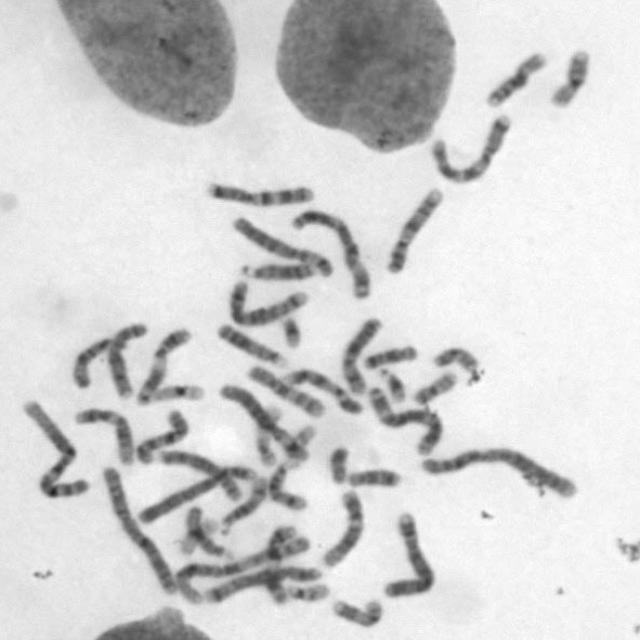A1: (173, 533, 313, 606), (17, 399, 92, 500)
A2: (98, 467, 178, 596), (418, 445, 579, 501)
A3: (289, 208, 375, 301), (367, 384, 445, 457)
B4: (136, 465, 260, 524), (382, 512, 438, 599)
B5: (202, 566, 325, 604), (226, 280, 312, 328)
C10: (246, 363, 328, 420), (134, 409, 190, 465)
C11: (135, 326, 192, 409), (262, 525, 300, 606)
C12: (318, 488, 366, 568), (74, 406, 135, 467)
C6: (218, 382, 310, 463), (230, 214, 334, 278)
C7: (429, 114, 513, 185), (205, 179, 316, 208)
C8: (157, 448, 244, 502), (107, 320, 151, 399)
C9: (384, 187, 448, 275), (279, 368, 365, 416)
D13: (216, 322, 290, 371), (238, 260, 316, 280)
D14: (219, 475, 267, 535), (267, 459, 312, 512)
D15: (182, 504, 234, 560), (70, 337, 112, 393)
E16: (482, 49, 549, 109), (550, 48, 592, 108)
E17: (253, 404, 286, 468), (331, 596, 384, 628)
E18: (362, 344, 418, 371), (345, 468, 404, 489)
F19: (178, 516, 223, 556), (152, 381, 206, 404)
F20: (413, 368, 459, 407), (431, 347, 480, 372)
G21: (377, 366, 406, 404), (276, 314, 304, 351)
G22: (282, 423, 316, 464), (288, 581, 330, 602)
X: (340, 316, 386, 397)
Y: (327, 444, 351, 486)
